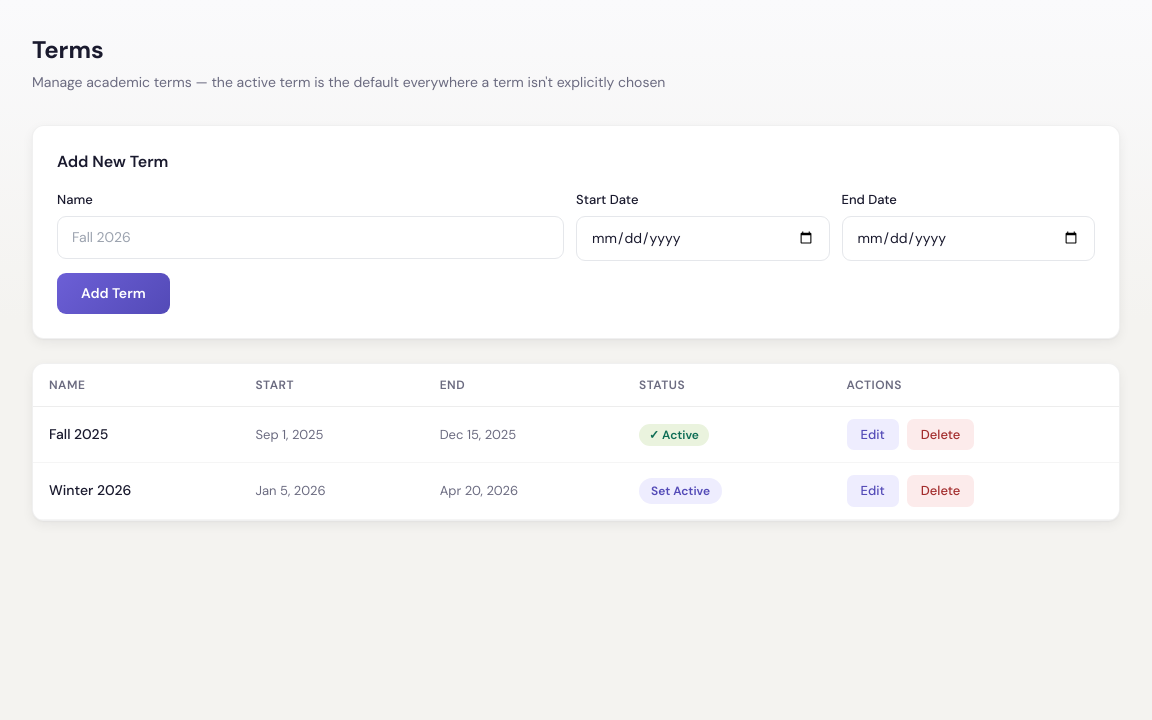
Test: AdminTerms › edits a term in place
Check: the text "Winter 2026" is shown, box [33,462,240,519]
Click the button "Edit" in the row of "Winter 2026" at (873, 491), box [846,475,899,506]
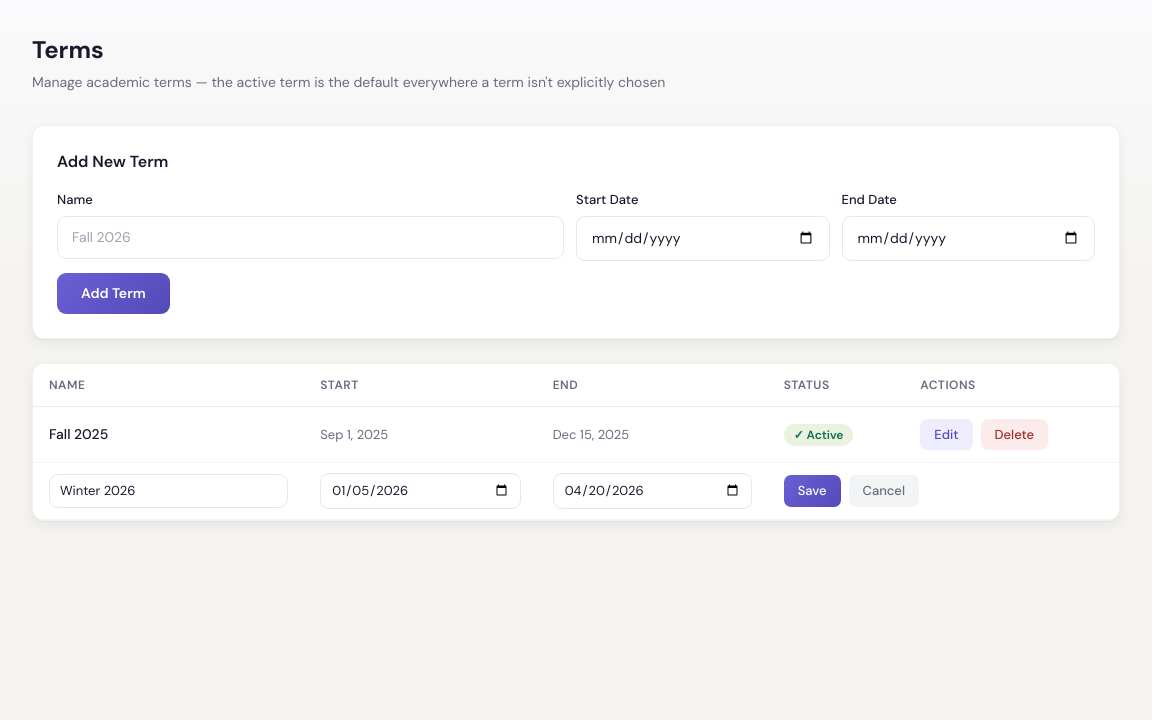
Replace the text in the field showing "Winter 2026" with "Winter Term 2026" at (169, 491), box [49,474,288,508]
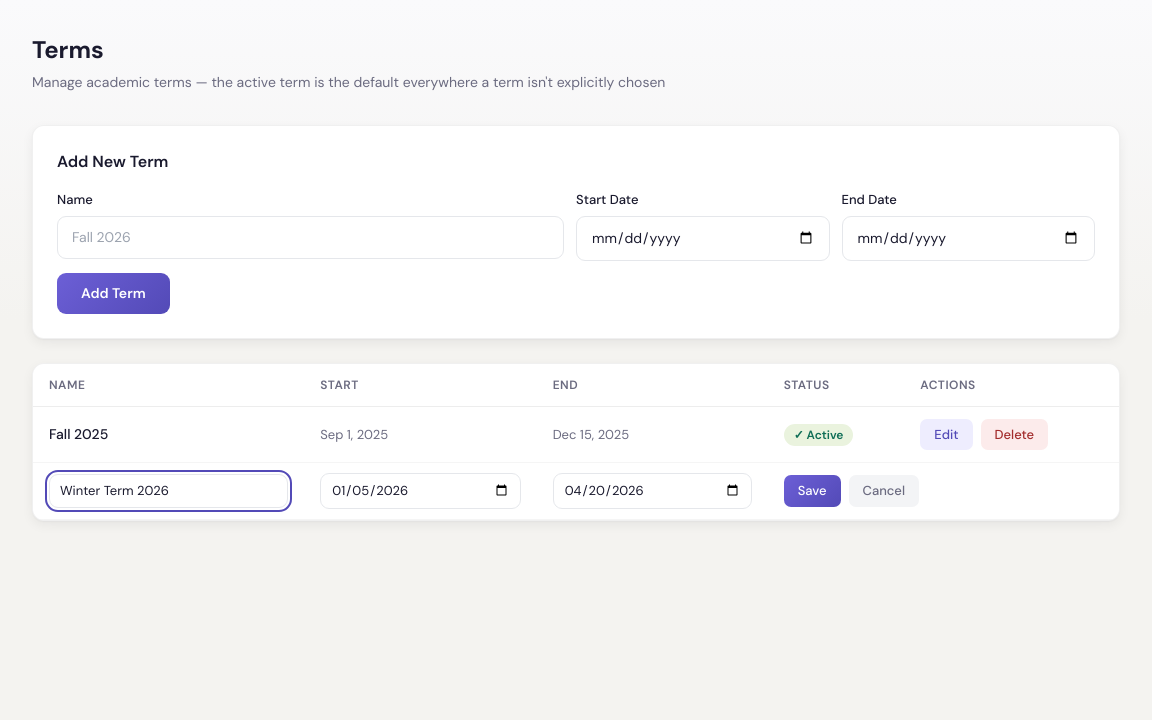
Click the button "Save" at (812, 491), box [784,475,840,506]
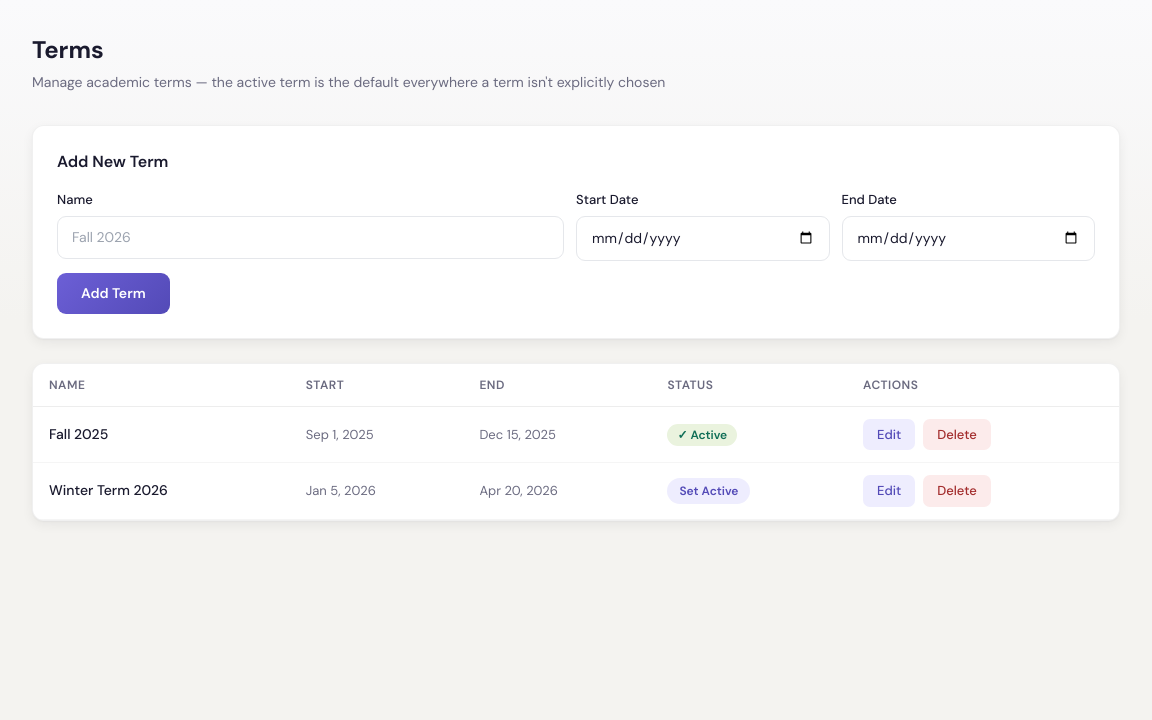
Check: the text "Winter Term 2026" is shown, box [33,462,290,519]
